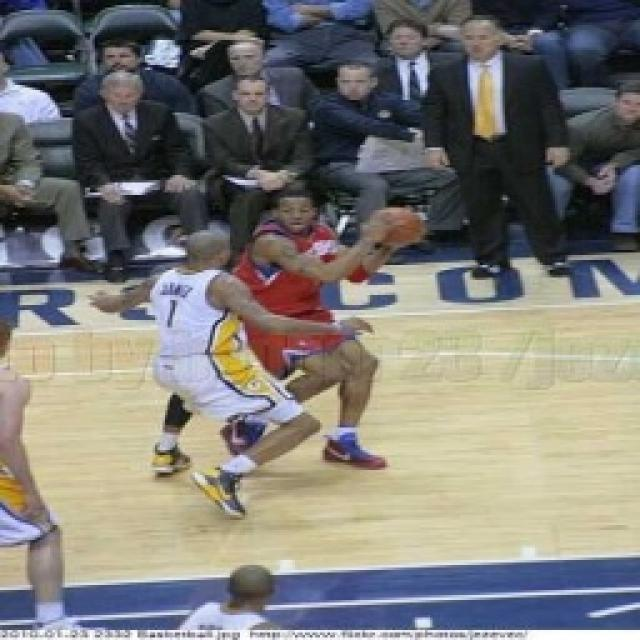rim: (362, 206, 431, 256)
